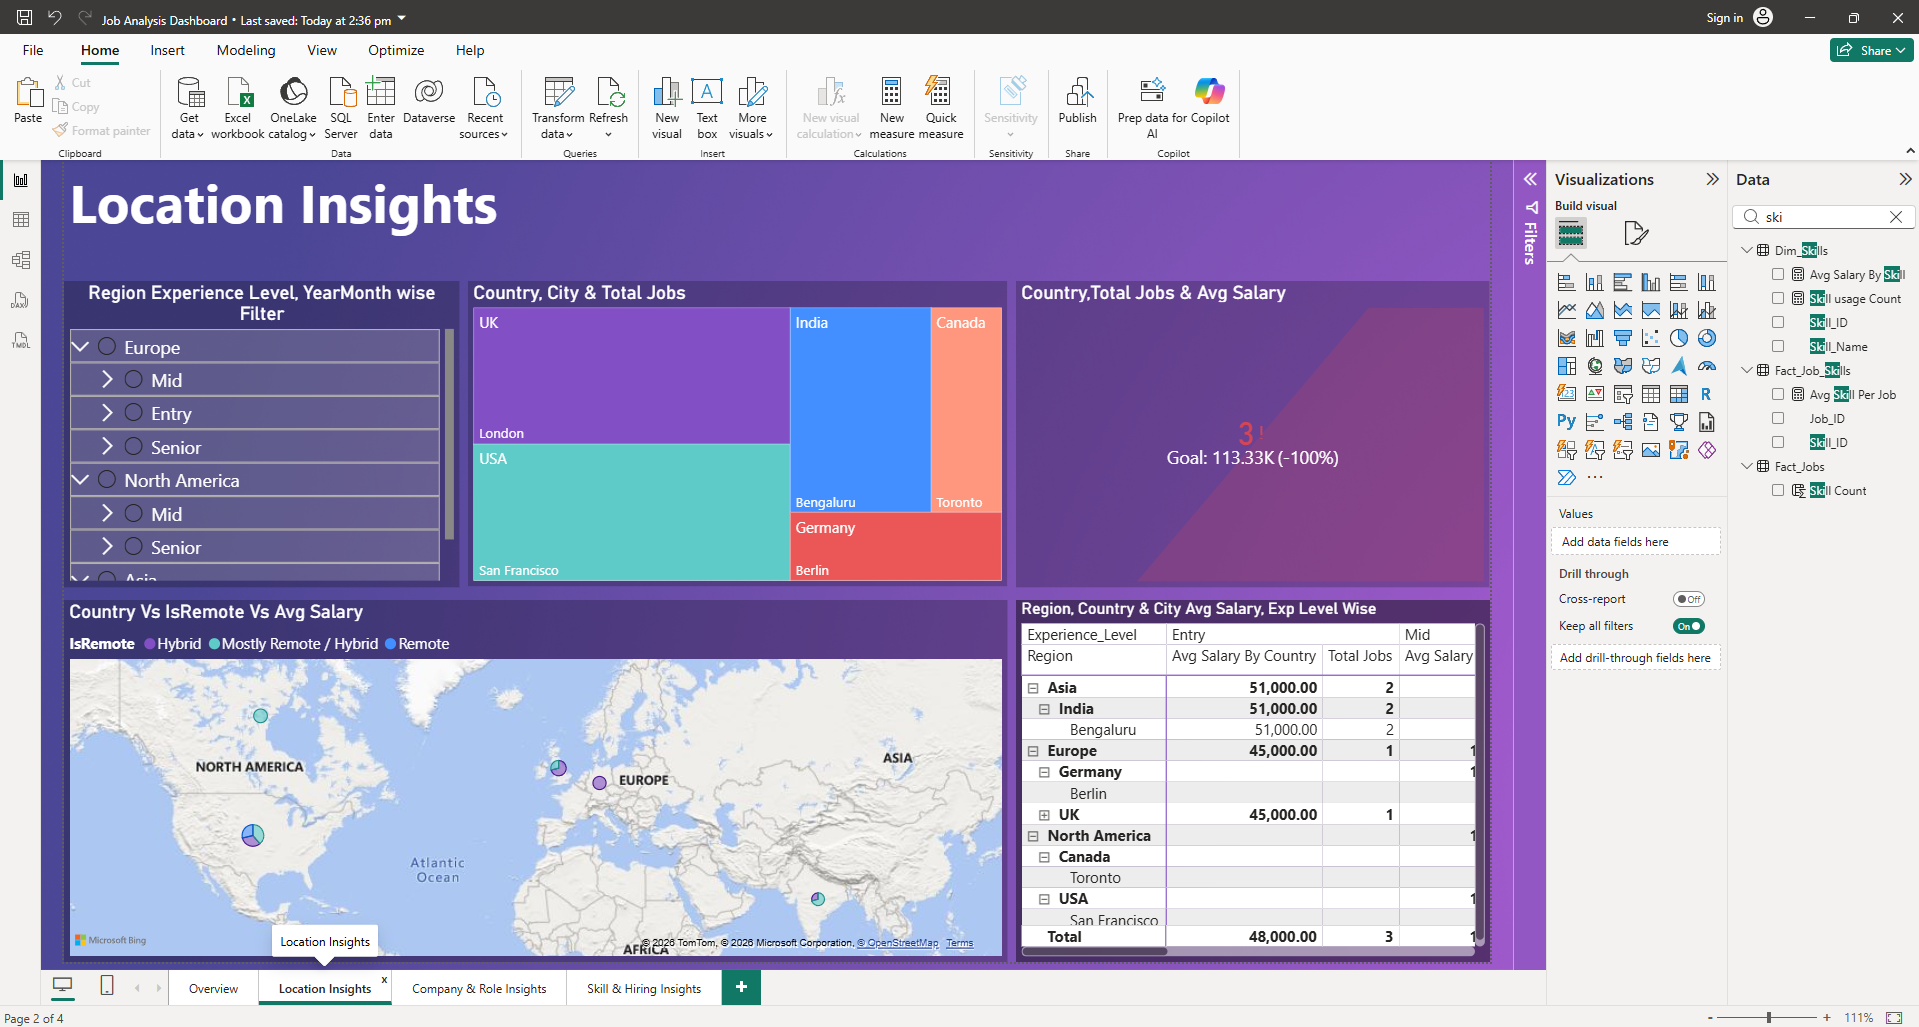

This screenshot's page, from the dashboard's own definition file:
{"tool":"powerbi","page":{"name":"Location Insights","canvas":[1280,720],"ordinal":1},"visuals":[{"type":"textbox","box":[0,0,508.2,79.1],"z":0},{"type":"listSlicer","title":"Region Experience Level, YearMonth wise Filter","fields":{"Values":["Dim_Locations.Region","Fact_Jobs.Experience_Level","Dim_Date.Year Month"]},"box":[0,108.2,355.5,274.5],"z":1000},{"type":"map","title":"Country Vs IsRemote Vs Avg Salary","fields":{"Size":["Fact_Jobs.Avg Salary By Country"],"Category":["Dim_Locations.Country"],"Series":["Fact_Jobs.IsRemote"]},"box":[0,395,846.6,325],"z":2000},{"type":"kpi","title":"Country,Total Jobs & Avg Salary","fields":{"Goal":["Fact_Jobs.Avg Salary By Country"],"Indicator":["Fact_Jobs.Total Jobs"],"TrendLine":["Dim_Locations.Country"]},"box":[854.5,108.2,425.5,274.5],"z":3000},{"type":"treemap","title":"Country, City & Total Jobs","fields":{"Group":["Dim_Locations.Country"],"Values":["Fact_Jobs.Total Jobs"],"Details":["Dim_Locations.City"]},"box":[362.7,108.6,483.9,273.8],"z":4000},{"type":"pivotTable","title":"Region, Country & City Avg Salary, Exp Level Wise","fields":{"Values":["Fact_Jobs.Avg Salary By Country","Fact_Jobs.Total Jobs"],"Rows":["Dim_Locations.Region","Dim_Locations.Country","Dim_Locations.City"],"Columns":["Fact_Jobs.Experience_Level"]},"box":[854.7,395,425.5,325],"z":5000}]}

Visuals, with their boxes on the page's 1280x720 design canvas (x1, y1, x2, y2). These are canvas units, not pixel positions in the 1919x1027 screenshot, which may show the page scaled, cropped or inside an application window:
textbox: box=[0, 0, 508, 79]
"Region Experience Level, YearMonth wise Filter" listSlicer: box=[0, 108, 356, 383]
"Country Vs IsRemote Vs Avg Salary" map: box=[0, 395, 847, 720]
"Country,Total Jobs & Avg Salary" kpi: box=[854, 108, 1280, 383]
"Country, City & Total Jobs" treemap: box=[363, 109, 847, 382]
"Region, Country & City Avg Salary, Exp Level Wise" pivotTable: box=[855, 395, 1280, 720]
